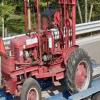Tractor: (8, 22, 97, 97)
